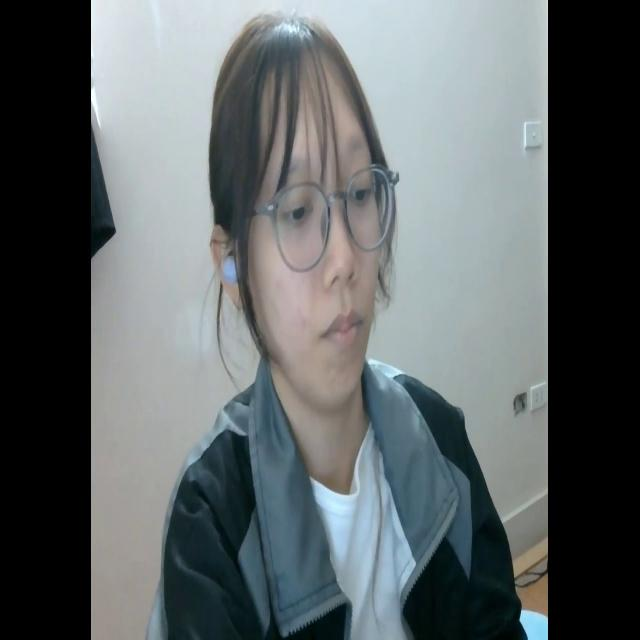student: (144, 10, 525, 640)
